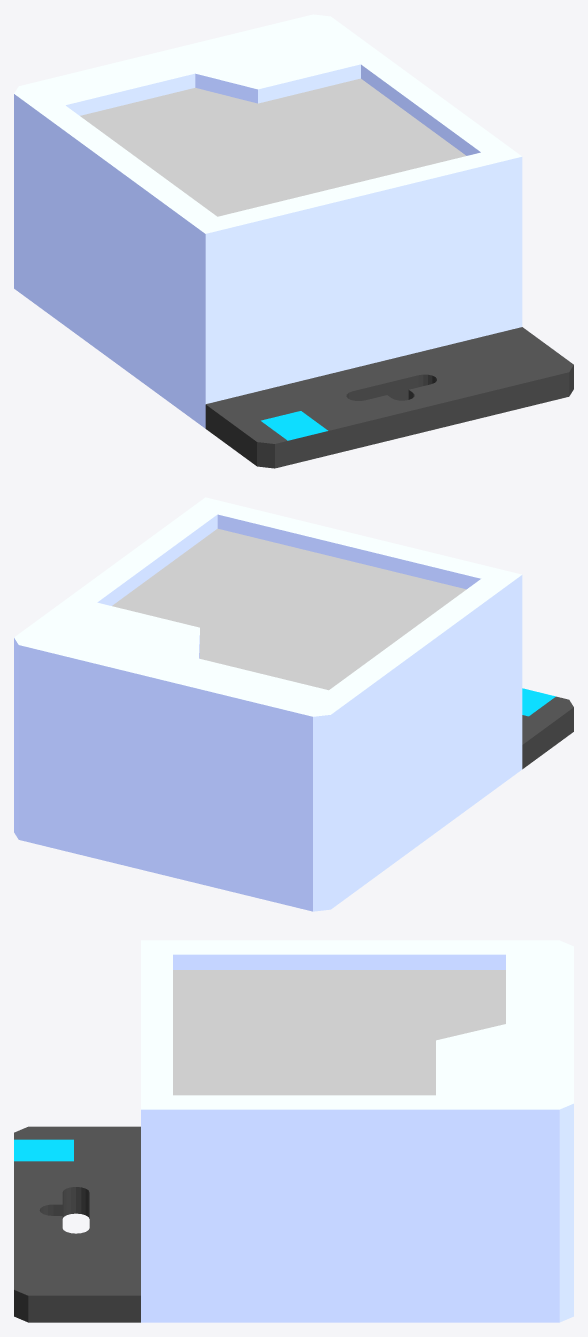
The model's file is Lv3-Packaging.fbx.
The picture shows the model from 3 angles, top to bottom: view 1: azimuth 30°, elevation 25°; view 2: azimuth 150°, elevation 25°; view 3: azimuth 270°, elevation 25°; orthographic projection. The views are drawn at different scales.
Parts seen in each view (by area): view 1: Lv3-Packaging; view 2: Lv3-Packaging; view 3: Lv3-Packaging.
Boxes of the visible parts, x1=… form: Lv3-Packaging: x1=14, y1=14, x2=573, y2=468; Lv3-Packaging: x1=14, y1=497, x2=573, y2=911; Lv3-Packaging: x1=14, y1=940, x2=573, y2=1322.
Size of the model in its own units: 2.81 by 1.65 by 3.94.
